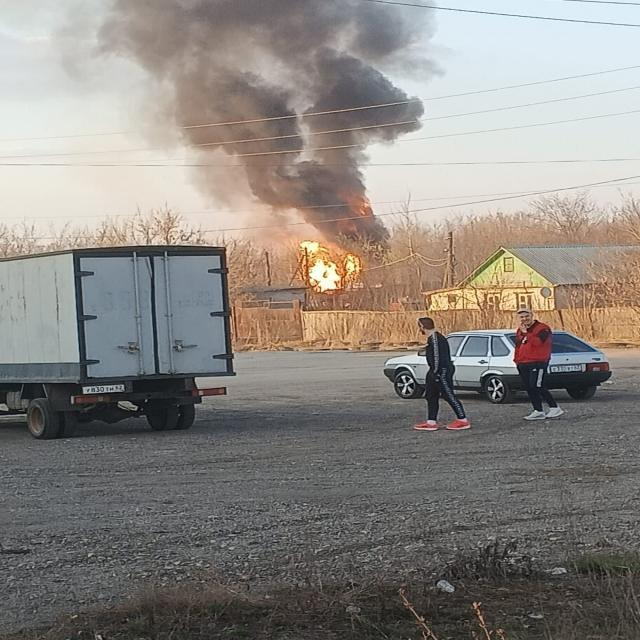Fire: (296, 240, 364, 294)
Smoke: (61, 0, 440, 251)
